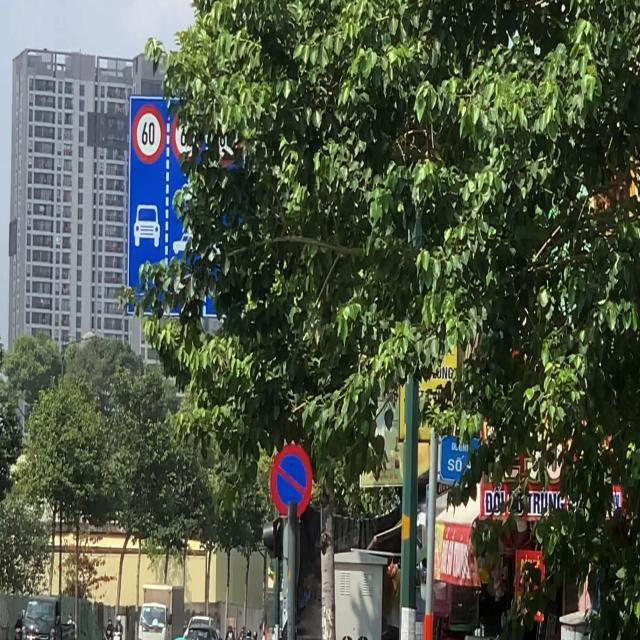Cam do: (270, 438, 318, 522)
Toc do toi da: (133, 97, 169, 174)
